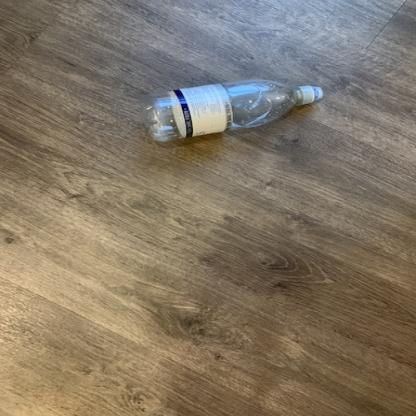trash: (138, 75, 325, 147)
